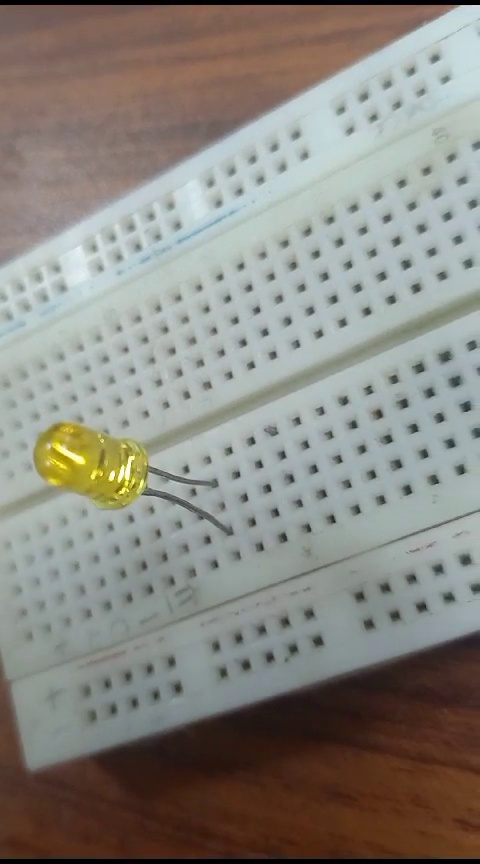LED: (19, 401, 248, 543)
